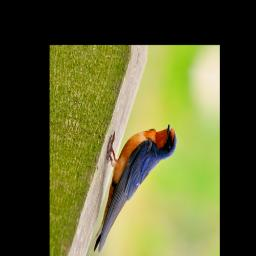Swallow: (85, 106, 183, 256)
